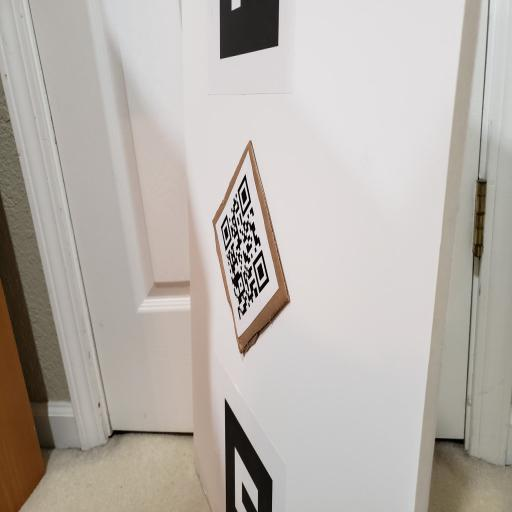qr_code: (221, 174, 270, 321)
